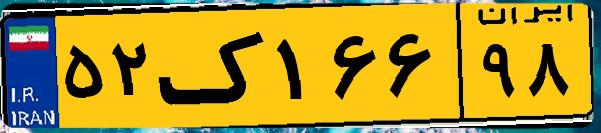1: (270, 28, 330, 110)
2: (110, 28, 158, 98)
5: (57, 26, 110, 100)
6: (385, 28, 445, 110), (330, 28, 385, 110)
8: (525, 38, 570, 115)
9: (475, 38, 525, 113)
ک: (158, 12, 270, 120)
